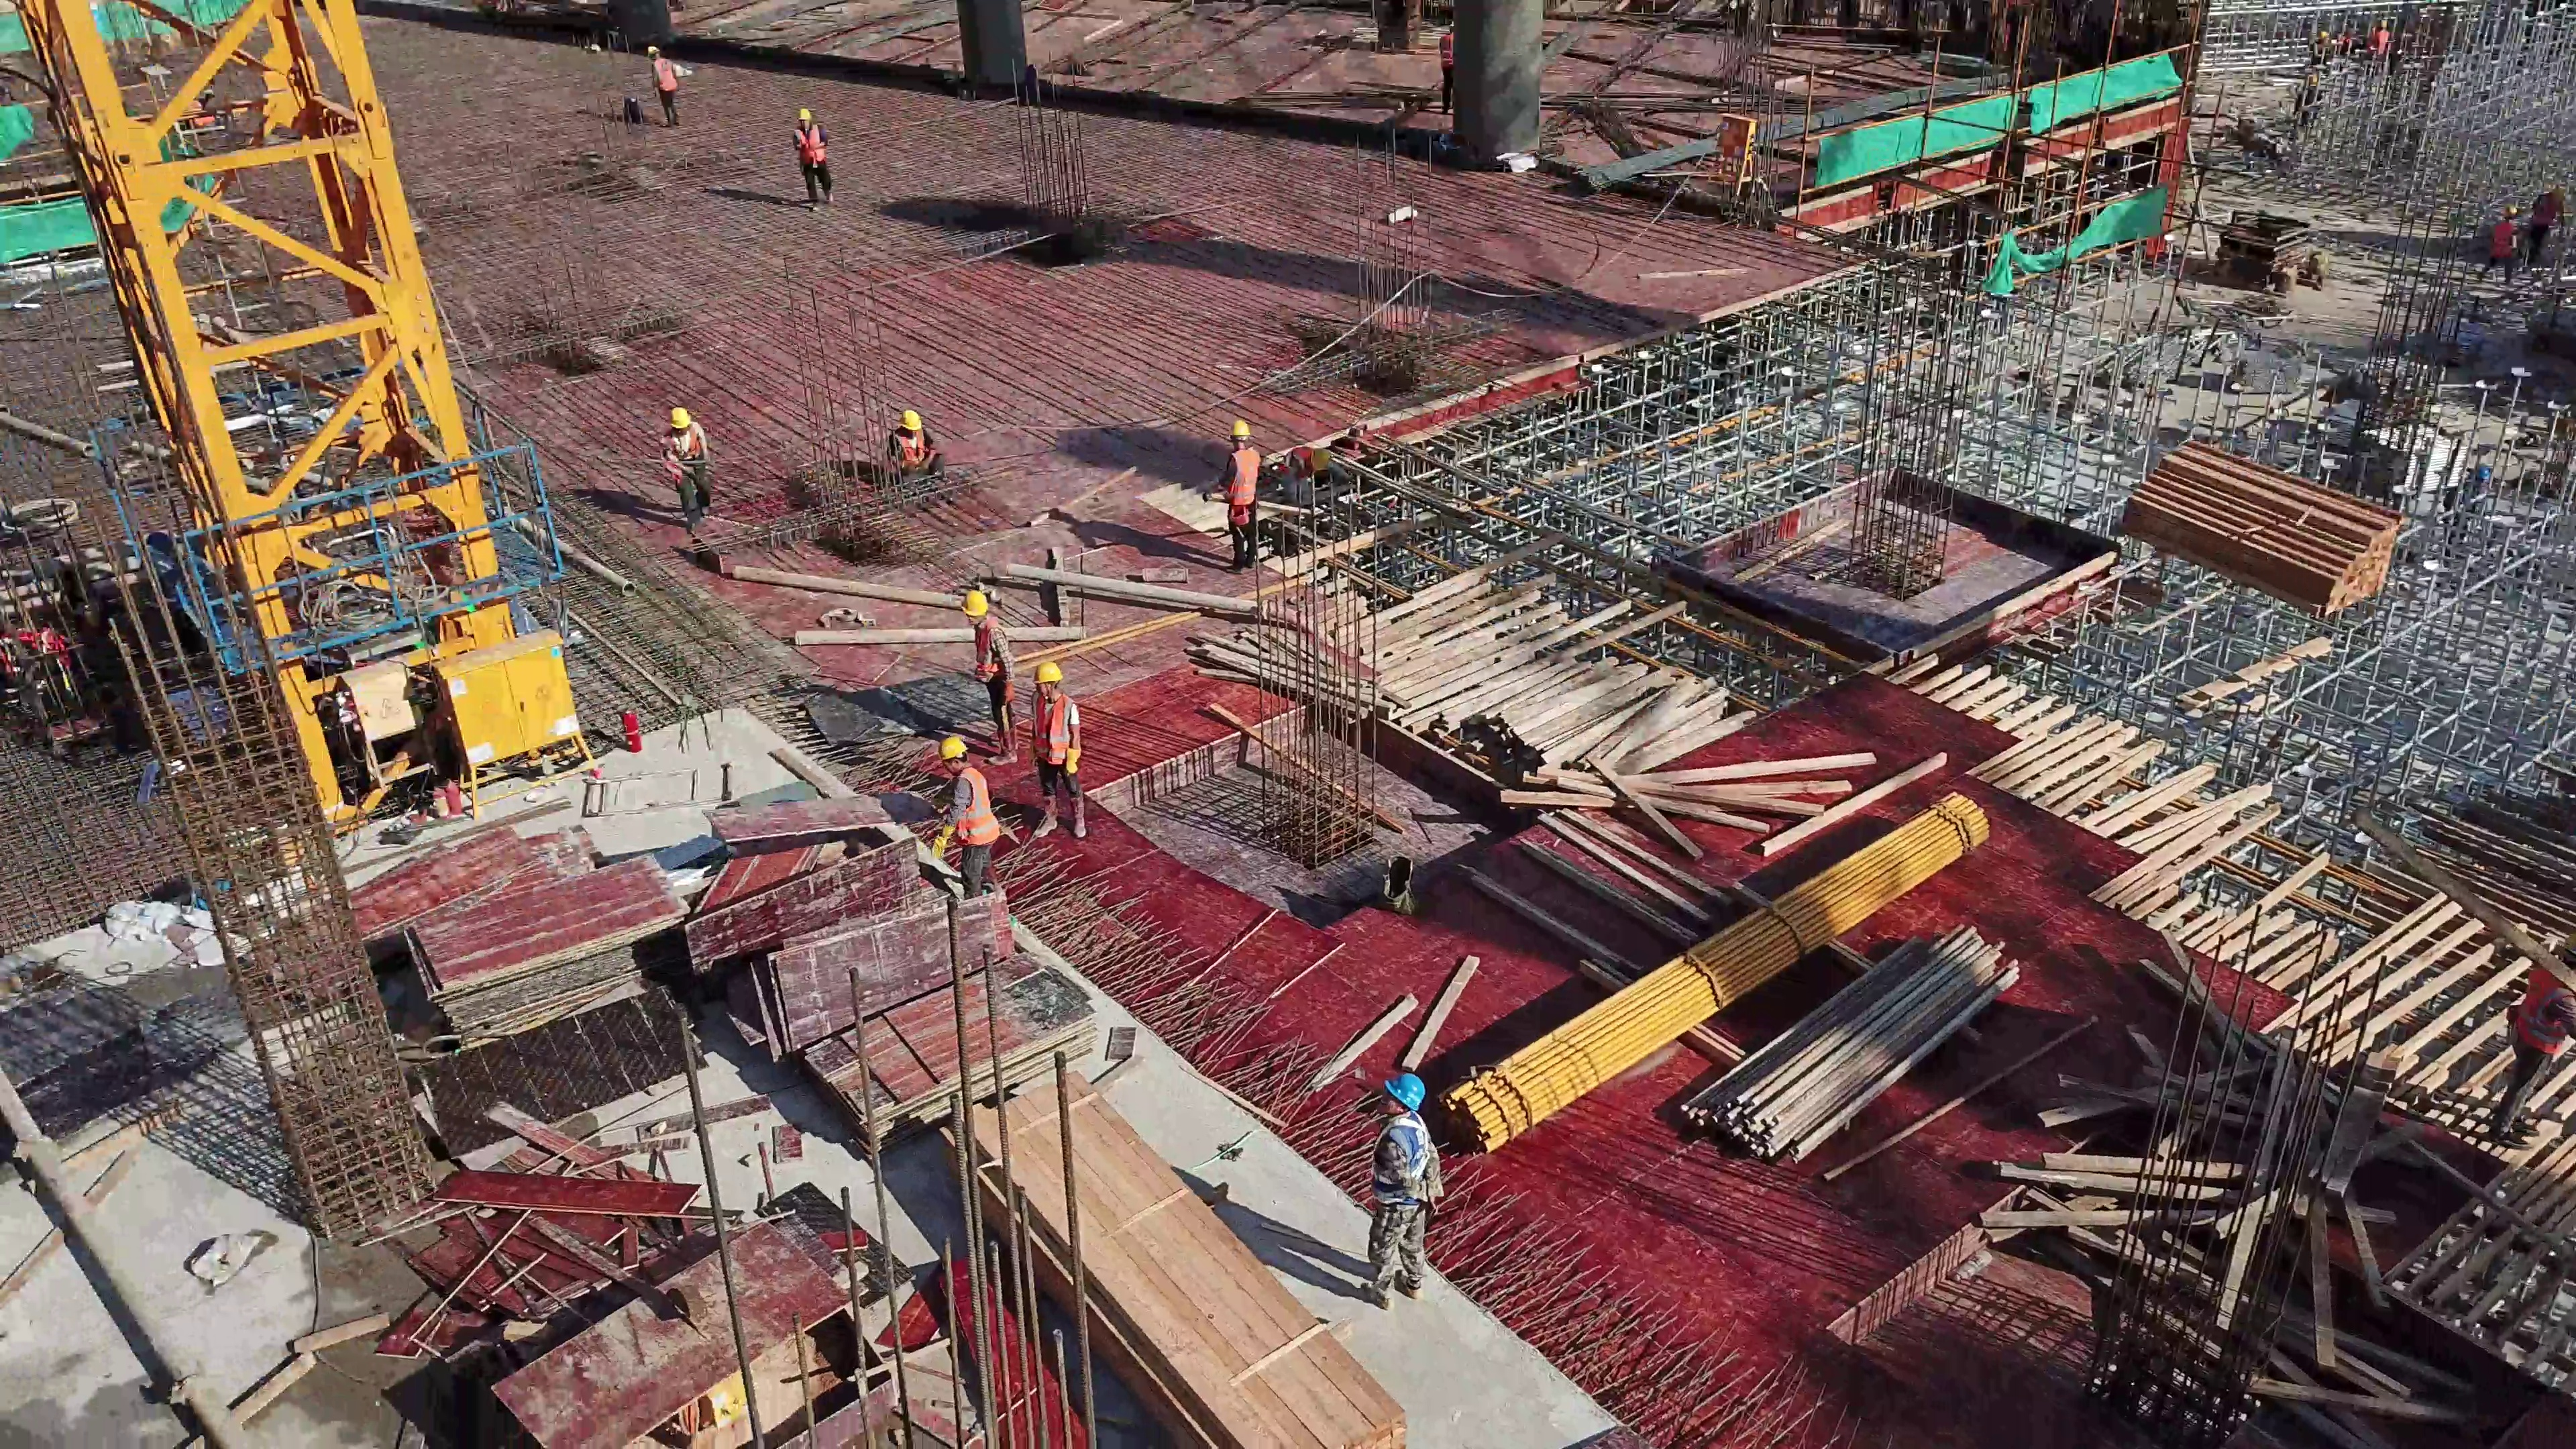helmet: (1385, 1073, 1428, 1112), (959, 591, 988, 618), (939, 738, 968, 762), (1033, 663, 1063, 685), (899, 409, 923, 432), (667, 407, 690, 430), (1228, 420, 1251, 439), (1312, 448, 1331, 470), (798, 108, 812, 121)
person: (1351, 1069, 1446, 1313), (2480, 916, 2576, 1144), (926, 735, 1012, 903), (1024, 659, 1099, 838), (957, 588, 1022, 770), (1201, 417, 1263, 582), (656, 405, 721, 533), (783, 106, 847, 214), (879, 407, 949, 480), (641, 41, 694, 126), (1265, 433, 1333, 498), (2476, 202, 2520, 285), (2522, 183, 2564, 265), (1434, 20, 1454, 113), (2294, 71, 2326, 126), (2365, 13, 2394, 64), (2306, 28, 2332, 67)
vest: (1370, 1116, 1436, 1210), (2507, 968, 2576, 1059), (953, 764, 1003, 849), (1032, 688, 1076, 765), (659, 425, 708, 482), (968, 621, 1009, 686), (1221, 448, 1263, 507), (893, 426, 938, 469), (794, 122, 828, 166), (1279, 445, 1314, 481), (652, 59, 680, 92)
